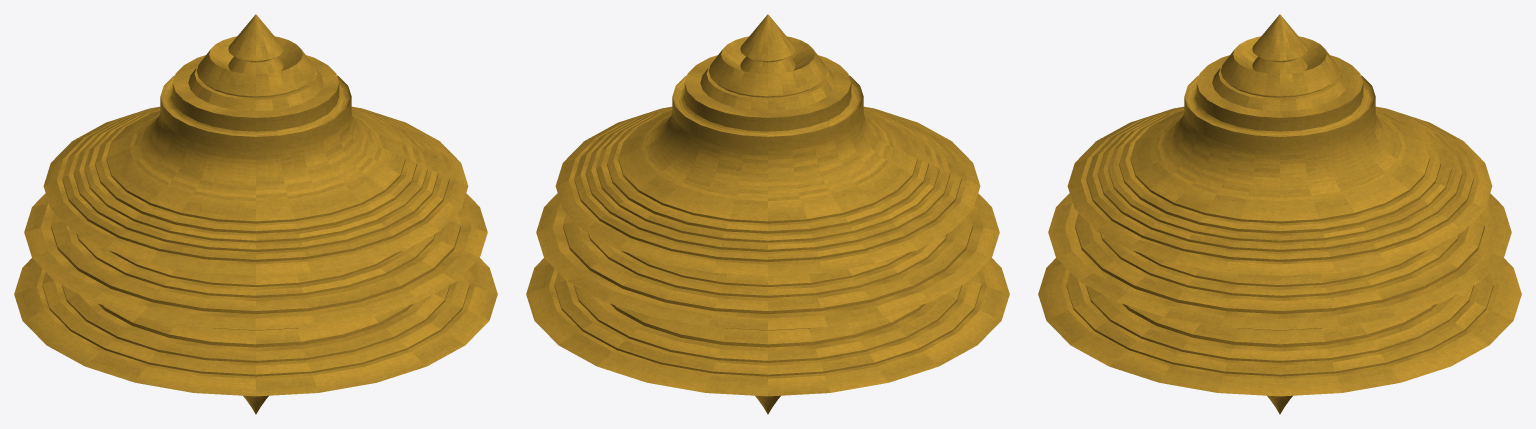
File: building-6c.dae
The picture shows the model from 3 angles, left to right: view 1: azimuth 30°, elevation 25°; view 2: azimuth 150°, elevation 25°; view 3: azimuth 270°, elevation 25°; orthographic projection.
Visible parts, largest first — view 1: group_0 (×16); view 2: group_0 (×16); view 3: group_0 (×16).
Part boxes in pixels (bbox=[...]): group_0 (×16): bbox=[14, 14, 497, 396]; group_0 (×16): bbox=[526, 14, 1009, 396]; group_0 (×16): bbox=[1038, 14, 1521, 396].
Bounding box in the file's own units: 499 × 499 × 456.
Materials: 1 (1 with a texture image).
